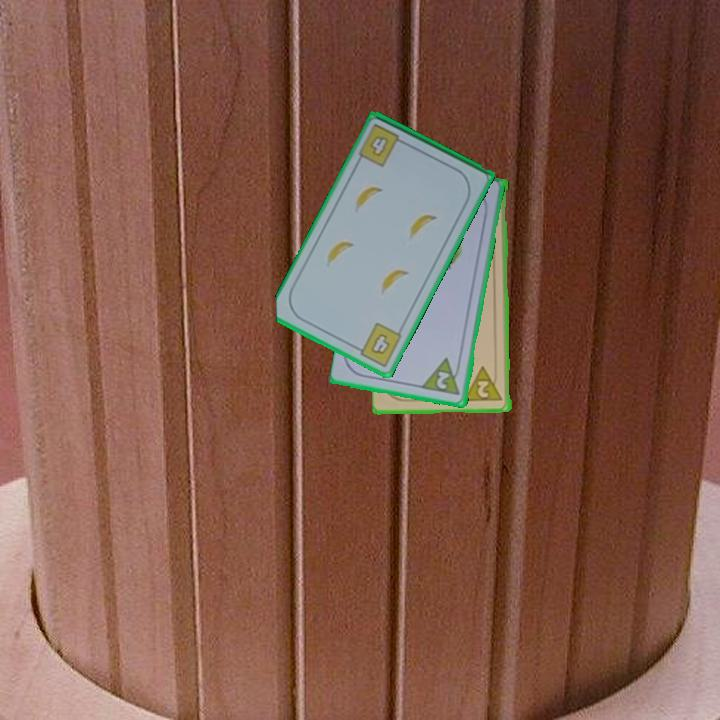2p: (462, 363, 506, 404), (433, 368, 453, 392)
4b: (351, 319, 405, 370), (357, 120, 409, 170)
